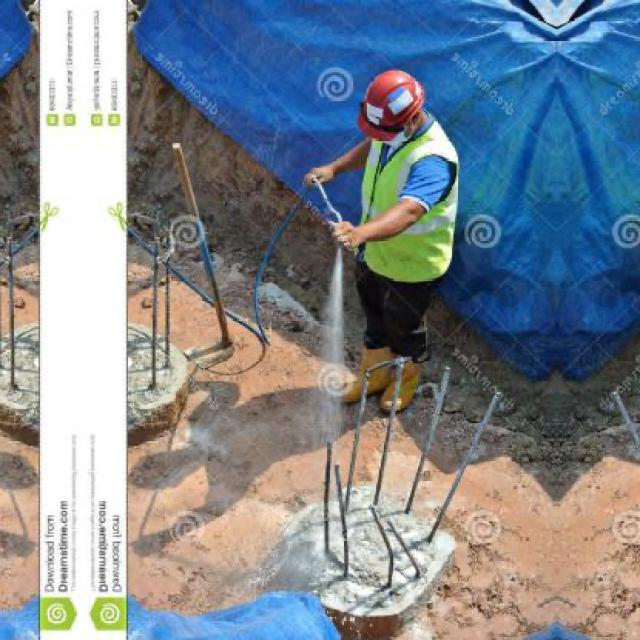helmet: (361, 66, 429, 137)
